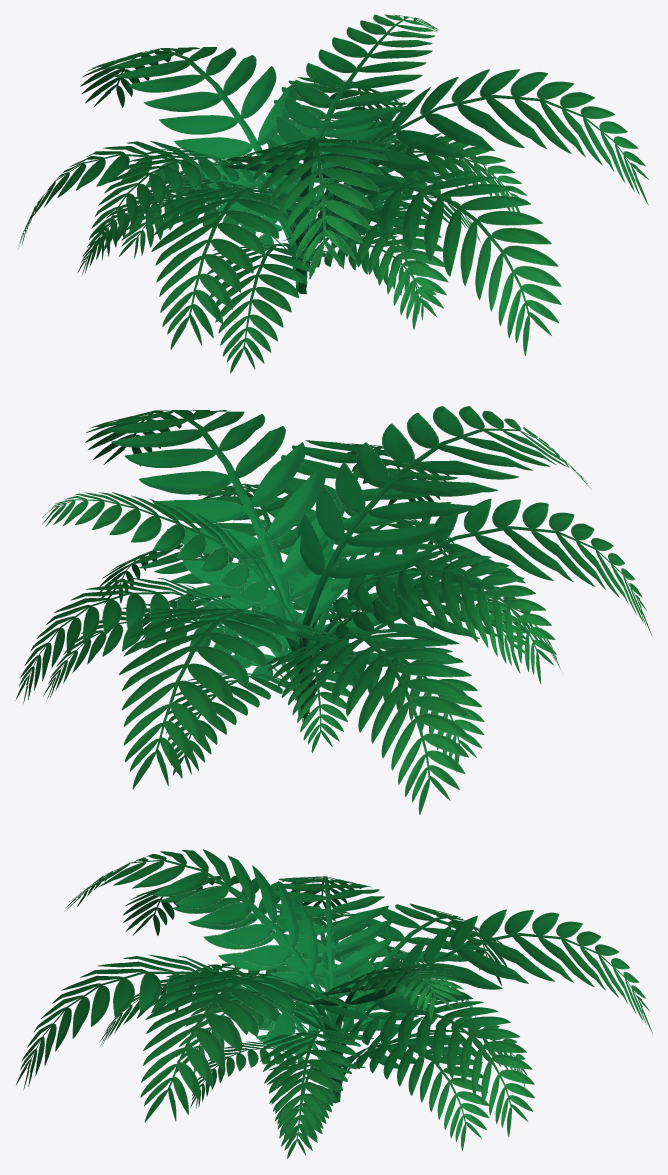
Rendered from big_short_plant.fbx.
3 views of the same model, one above another, from view 1: azimuth 30°, elevation 25°; view 2: azimuth 150°, elevation 25°; view 3: azimuth 270°, elevation 25° (orthographic). The views are drawn at different scales.
Parts seen in each view (by area): view 1: leaf_5.003; view 2: leaf_5.003; view 3: leaf_5.003.
Part boxes in pixels (x1,y1,x2,y2): leaf_5.003: [18, 14, 648, 373]; leaf_5.003: [15, 406, 652, 814]; leaf_5.003: [16, 849, 652, 1158].
Bounding box in the file's own units: 112 × 47.01 × 130.
